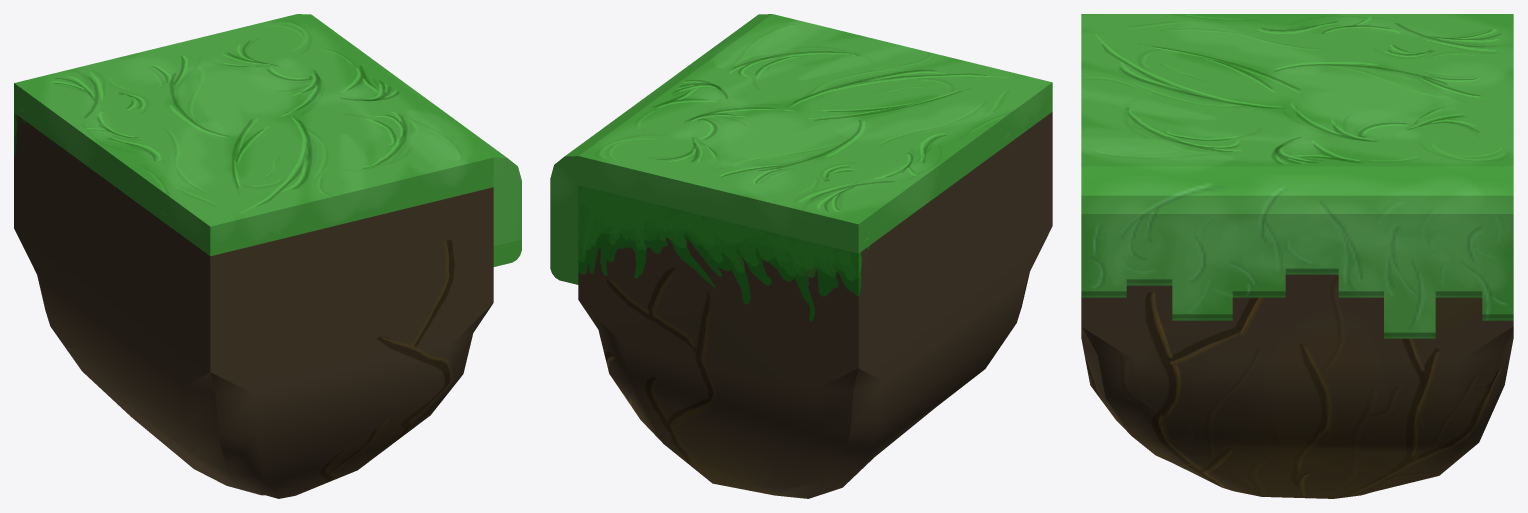
Rendered from Block_textured.fbx.
The picture shows the model from 3 angles, left to right: view 1: azimuth 30°, elevation 25°; view 2: azimuth 150°, elevation 25°; view 3: azimuth 270°, elevation 25°; orthographic projection. The views are drawn at different scales.
Visible parts, largest first — view 1: pCube7, pCube6, pCube4; view 2: pCube7, pCube6, pCube4; view 3: pCube7, pCube6, pCube4.
Boxes of the visible parts, x1=… form: pCube7: x1=14, y1=113, x2=493, y2=498; pCube6: x1=14, y1=14, x2=493, y2=256; pCube4: x1=298, y1=14, x2=521, y2=266; pCube7: x1=578, y1=112, x2=1052, y2=498; pCube6: x1=578, y1=14, x2=1052, y2=253; pCube4: x1=550, y1=14, x2=771, y2=284; pCube7: x1=1081, y1=274, x2=1513, y2=498; pCube6: x1=1081, y1=14, x2=1513, y2=166; pCube4: x1=1081, y1=166, x2=1513, y2=338.
Bounding box in the file's own units: 5.5 × 6.15 × 6.
2 materials, 2 textured.
